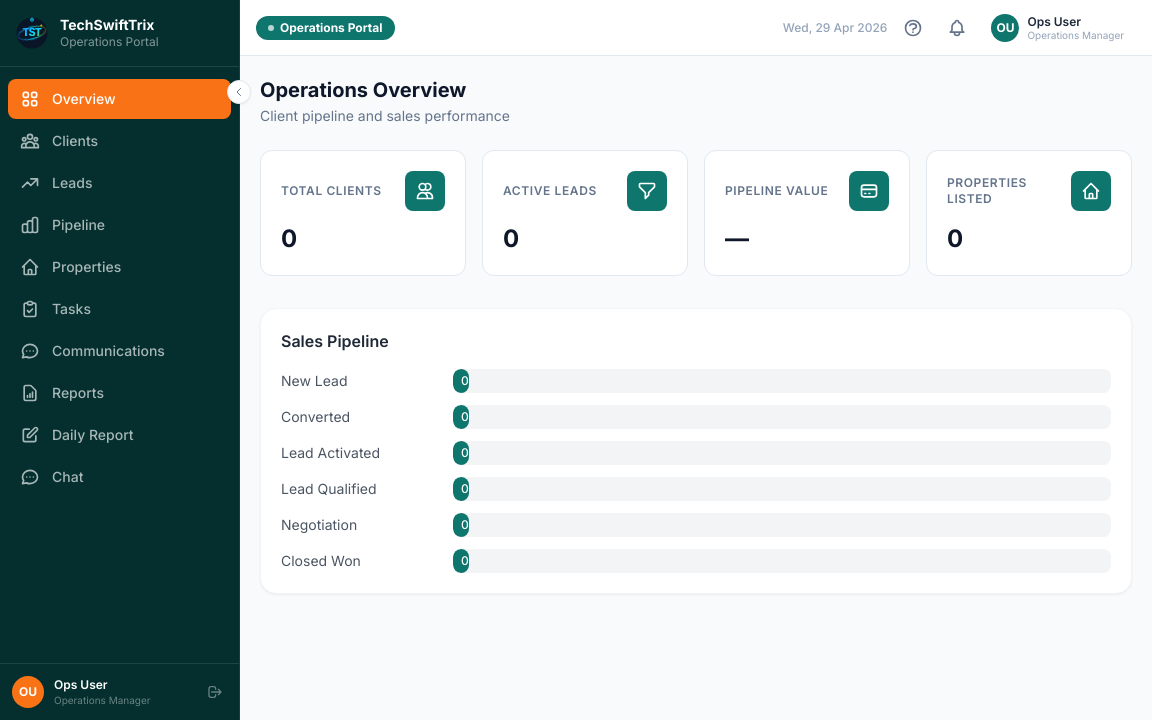
Test: OperationsPortal › navigates to pipeline section
This screenshot has width=1152, height=720.
What coordinates should you click on to do the following:
click the button "Pipeline"
I would click on:
 (120, 224)
Its box is 8,204 -> 231,244.
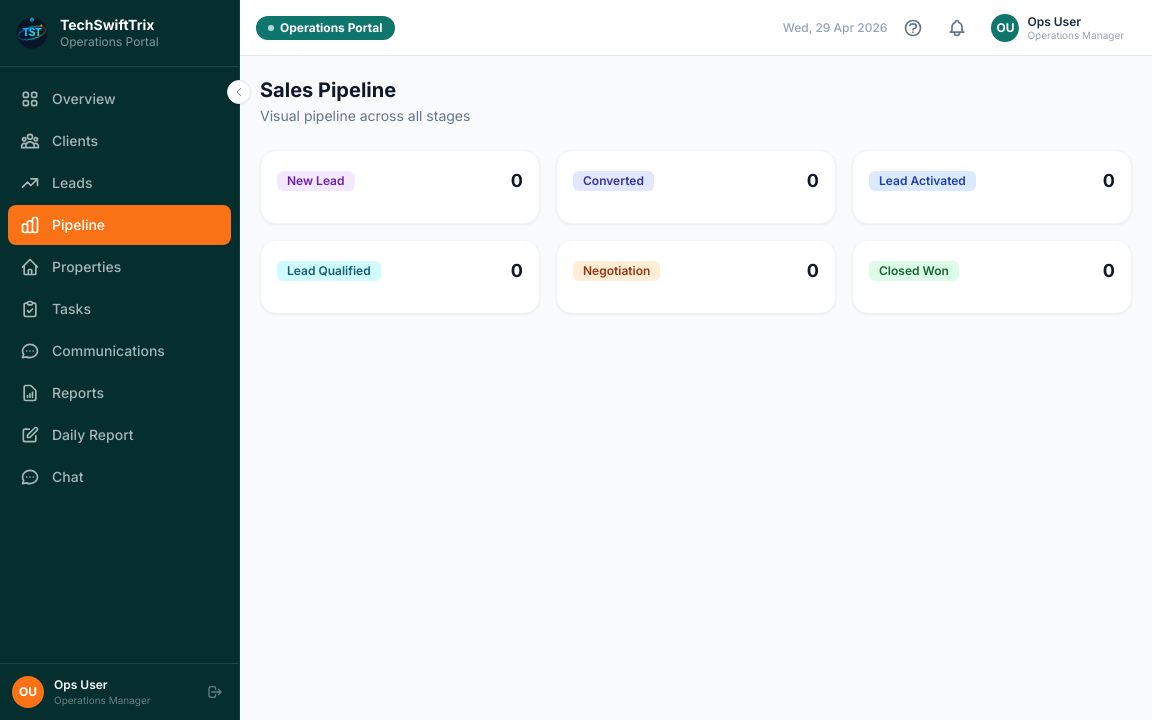
Now the heading "Sales Pipeline" is shown, box 260,78 -> 396,102
